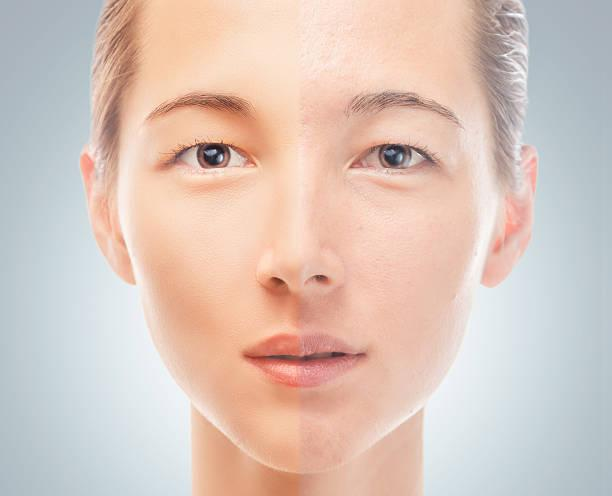Dry-Skin: (336, 187, 479, 368)
